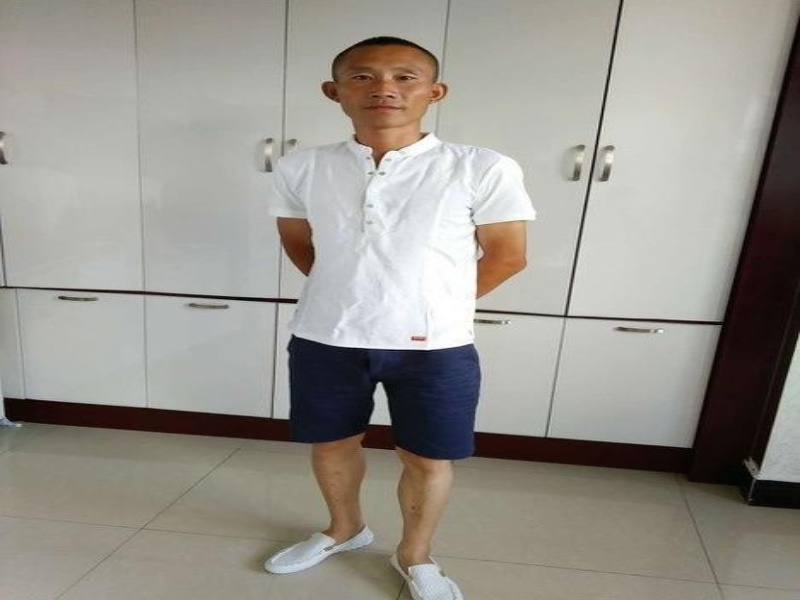short_sleeved_shirt: (251, 129, 542, 357)
shorts: (277, 312, 489, 463)
